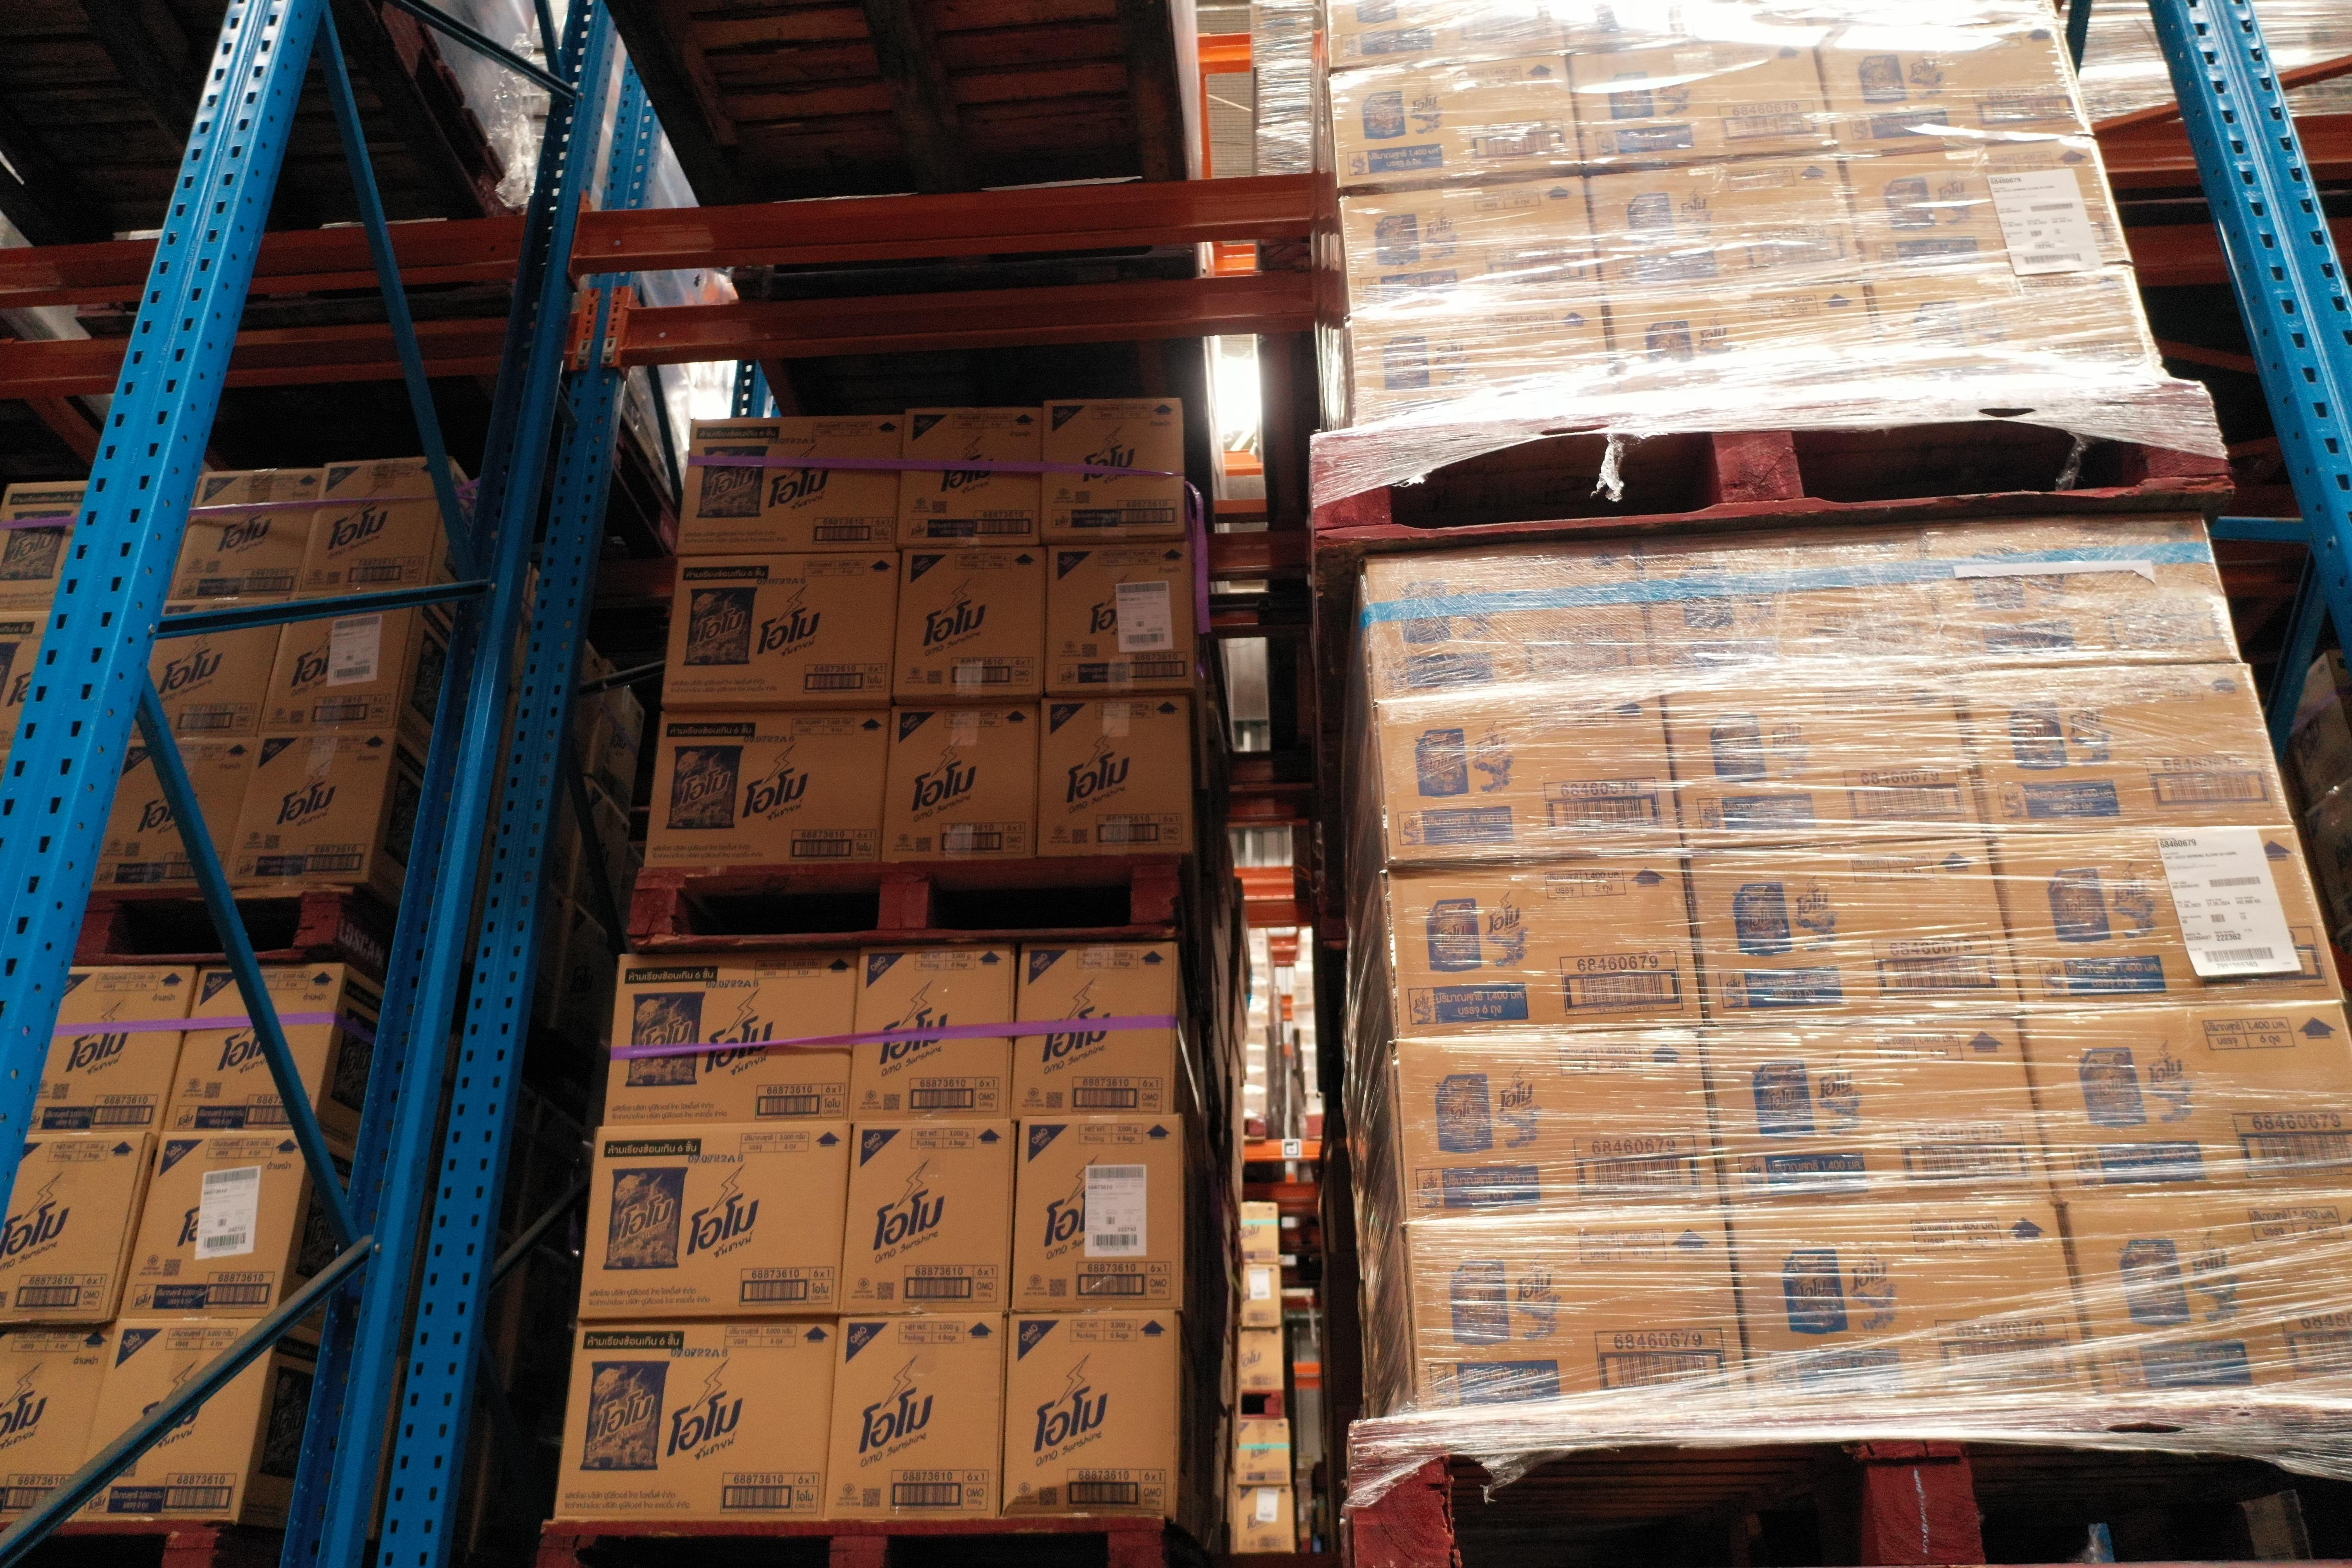-: (1729, 1202, 2095, 1416), (1405, 1206, 1755, 1419), (1701, 1017, 2054, 1216), (2019, 999, 2352, 1202), (1993, 824, 2347, 1013), (1685, 835, 2023, 1031), (1391, 1031, 1722, 1227), (1948, 661, 2296, 838), (2063, 1193, 2352, 1405), (1381, 856, 1703, 1039), (1655, 675, 1984, 854), (1372, 686, 1685, 864), (1914, 513, 2240, 674), (1634, 520, 1946, 684), (1365, 535, 1652, 705), (1839, 138, 2135, 282), (1585, 152, 1867, 301), (1865, 266, 2172, 395), (1813, 23, 2095, 159), (1337, 175, 1599, 318), (1608, 280, 1886, 415), (1566, 38, 1836, 173), (1347, 296, 1615, 430), (1328, 52, 1580, 191)
box: (551, 1318, 838, 1522), (577, 1123, 854, 1318), (604, 952, 859, 1125), (66, 1321, 276, 1522), (819, 1314, 1008, 1522), (644, 709, 889, 866), (117, 1129, 313, 1325), (1001, 1311, 1176, 1521), (661, 555, 899, 705), (838, 1123, 1018, 1316), (1008, 1115, 1183, 1311), (163, 964, 345, 1132), (677, 418, 899, 553), (1008, 945, 1176, 1120), (850, 947, 1015, 1125), (26, 964, 196, 1134), (222, 730, 397, 887), (880, 702, 1041, 864), (1034, 696, 1192, 857), (94, 737, 259, 889), (892, 549, 1046, 702), (128, 598, 290, 742), (1043, 542, 1195, 695), (259, 588, 416, 733), (292, 455, 450, 593), (1041, 399, 1188, 541), (170, 471, 322, 602), (898, 409, 1045, 544), (0, 478, 89, 614)
